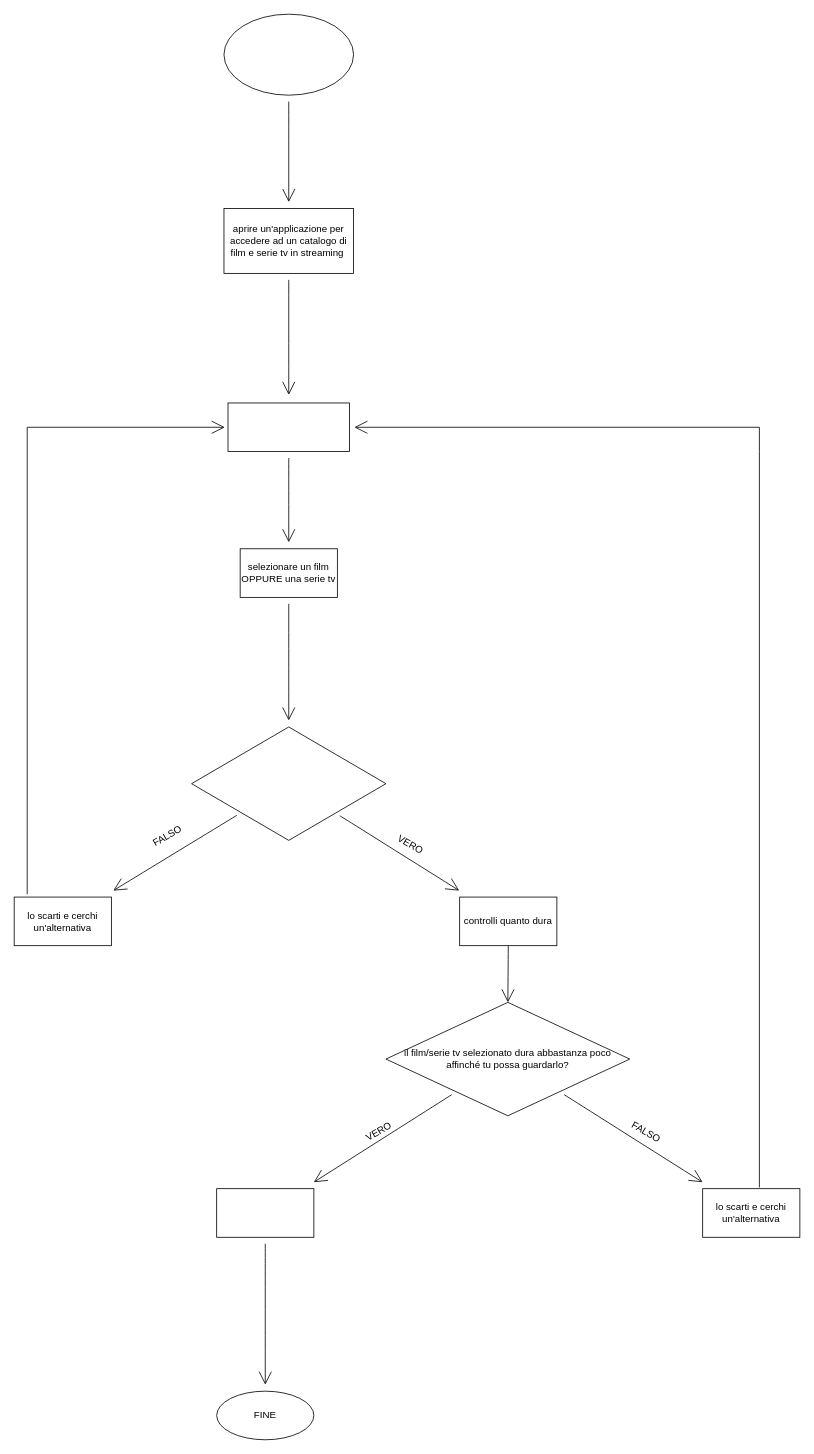
This 814x1454 diagram has some shape labels left out. The shapes that lost their labels are listed below. From the top down, each one's centre as x and y in pixels, then its label:
At point (288, 54): "INIZIO".
At point (288, 427): "confrontare le diverse opzioni".
At point (288, 783): "il film/serie tv selezionato incontra i tuoi gusti?".
At point (265, 1212): "lo guardi".
